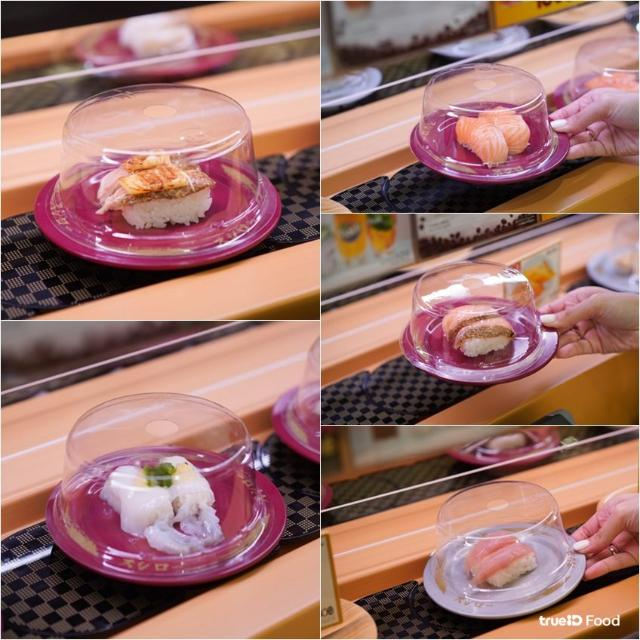janred: (40, 129, 295, 274), (64, 433, 295, 574), (43, 0, 271, 117), (362, 78, 578, 190), (325, 291, 578, 364), (249, 357, 335, 451), (551, 57, 640, 122)
janwhite: (421, 531, 607, 620), (590, 223, 640, 299)
